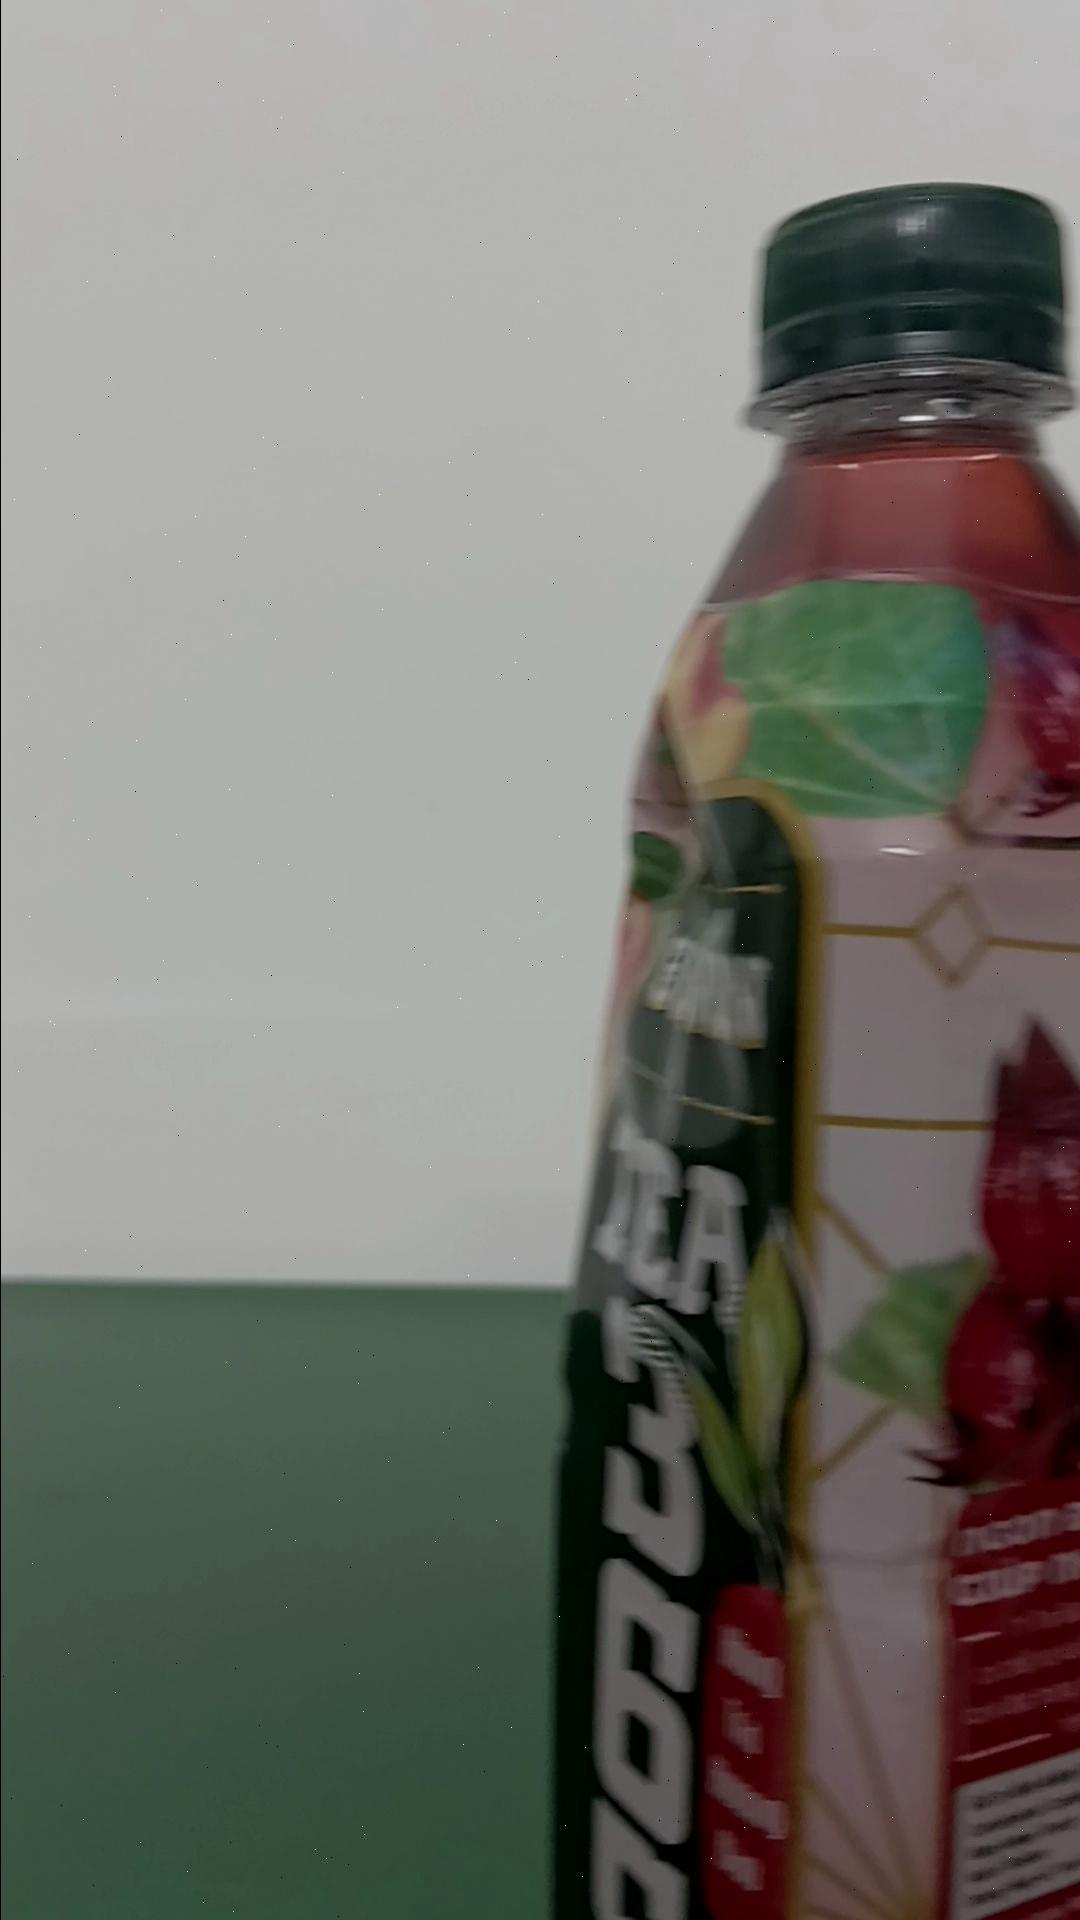loi meo sp: (545, 179, 1077, 1915)
